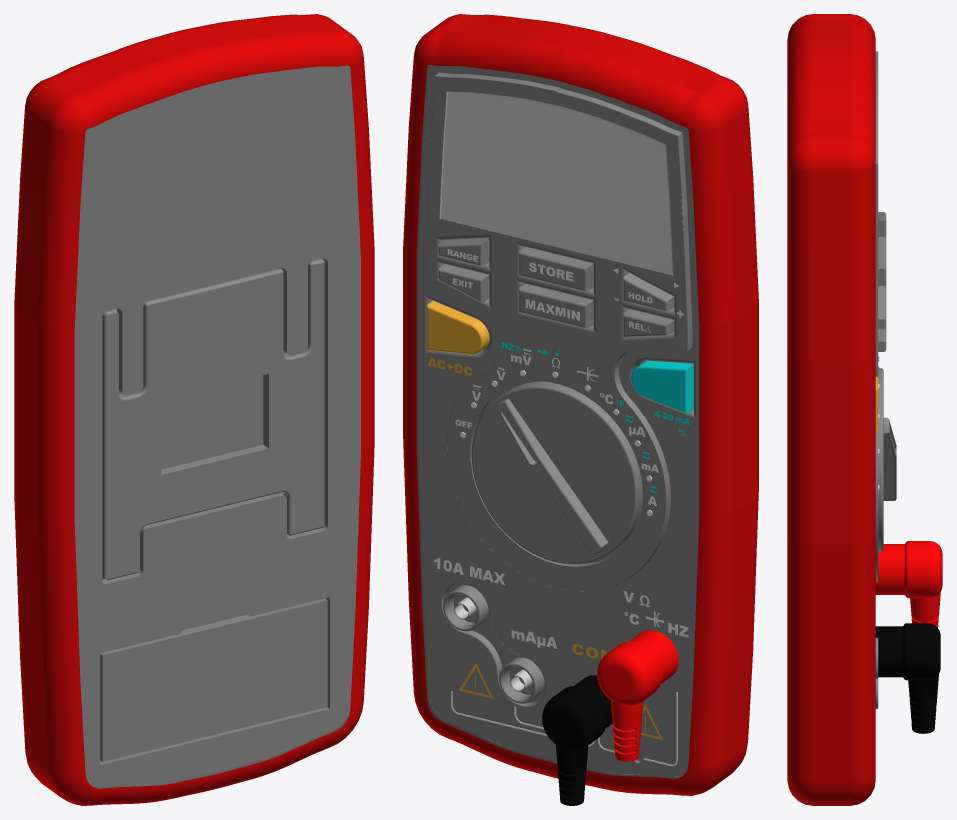
Rendered from body v1.gltf.
3 renders of one model, left to right at view 1: azimuth 30°, elevation 25°; view 2: azimuth 150°, elevation 25°; view 3: azimuth 270°, elevation 25°, orthographic. The views are drawn at different scales.
Parts seen in each view (by area): view 1: object 3, object 2; view 2: object 3, object 2, object 1, Componente2, Componente1, object 6, object 5, object 8, object 7; view 3: object 2, object 3, Componente1, Componente2.
Part boxes in pixels (x1,y1,x2,y2): object 3: (74, 65, 360, 788); object 2: (14, 14, 374, 805); object 3: (416, 65, 699, 778); object 2: (403, 14, 758, 795); object 1: (441, 92, 671, 275); Componente2: (597, 630, 678, 761); Componente1: (542, 675, 612, 805); object 6: (434, 249, 688, 766); object 5: (427, 300, 662, 740); object 8: (631, 360, 693, 413); object 7: (439, 91, 683, 763); object 2: (787, 14, 875, 805); object 3: (875, 51, 896, 709); Componente1: (875, 623, 940, 733); Componente2: (875, 541, 942, 627).
Bounding box in the file's own units: 70.09 × 149 × 29.85.
